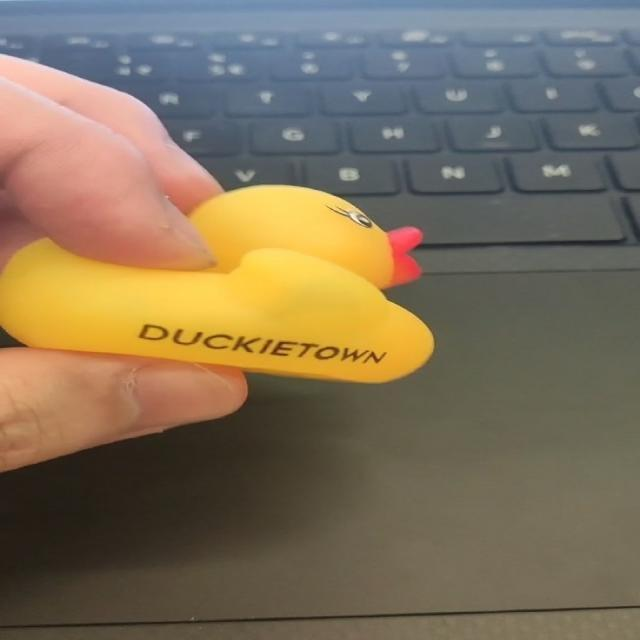rubber-duck: (0, 184, 432, 380)
